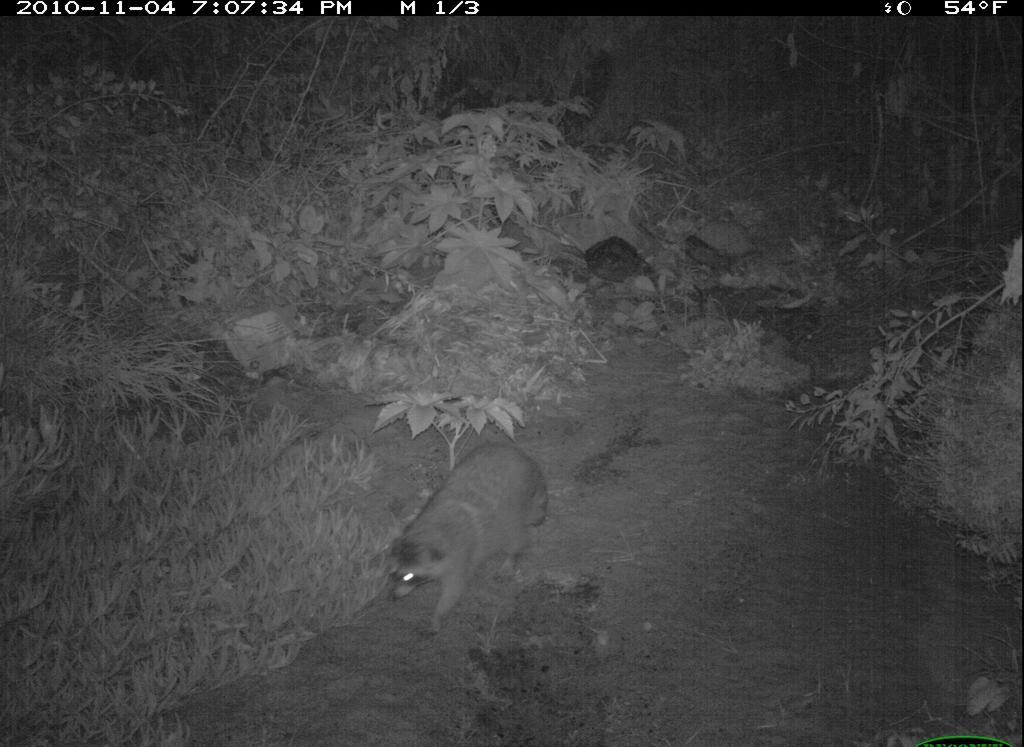raccoon: (376, 431, 559, 641)
